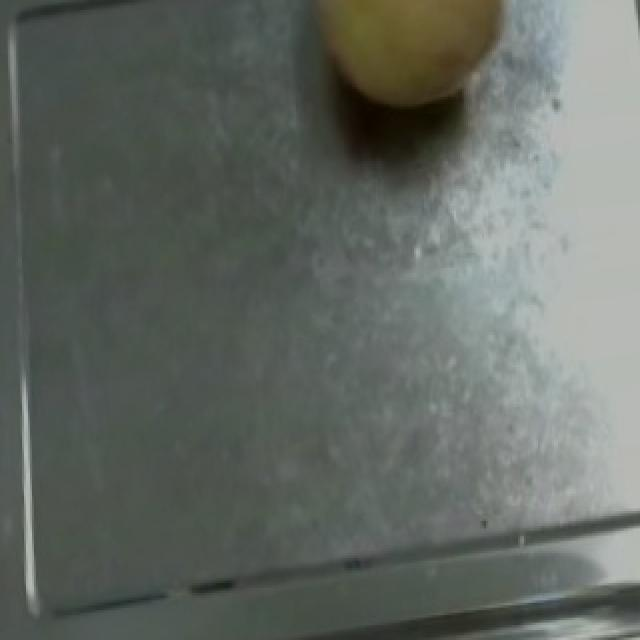Fruit: (286, 0, 540, 136)
